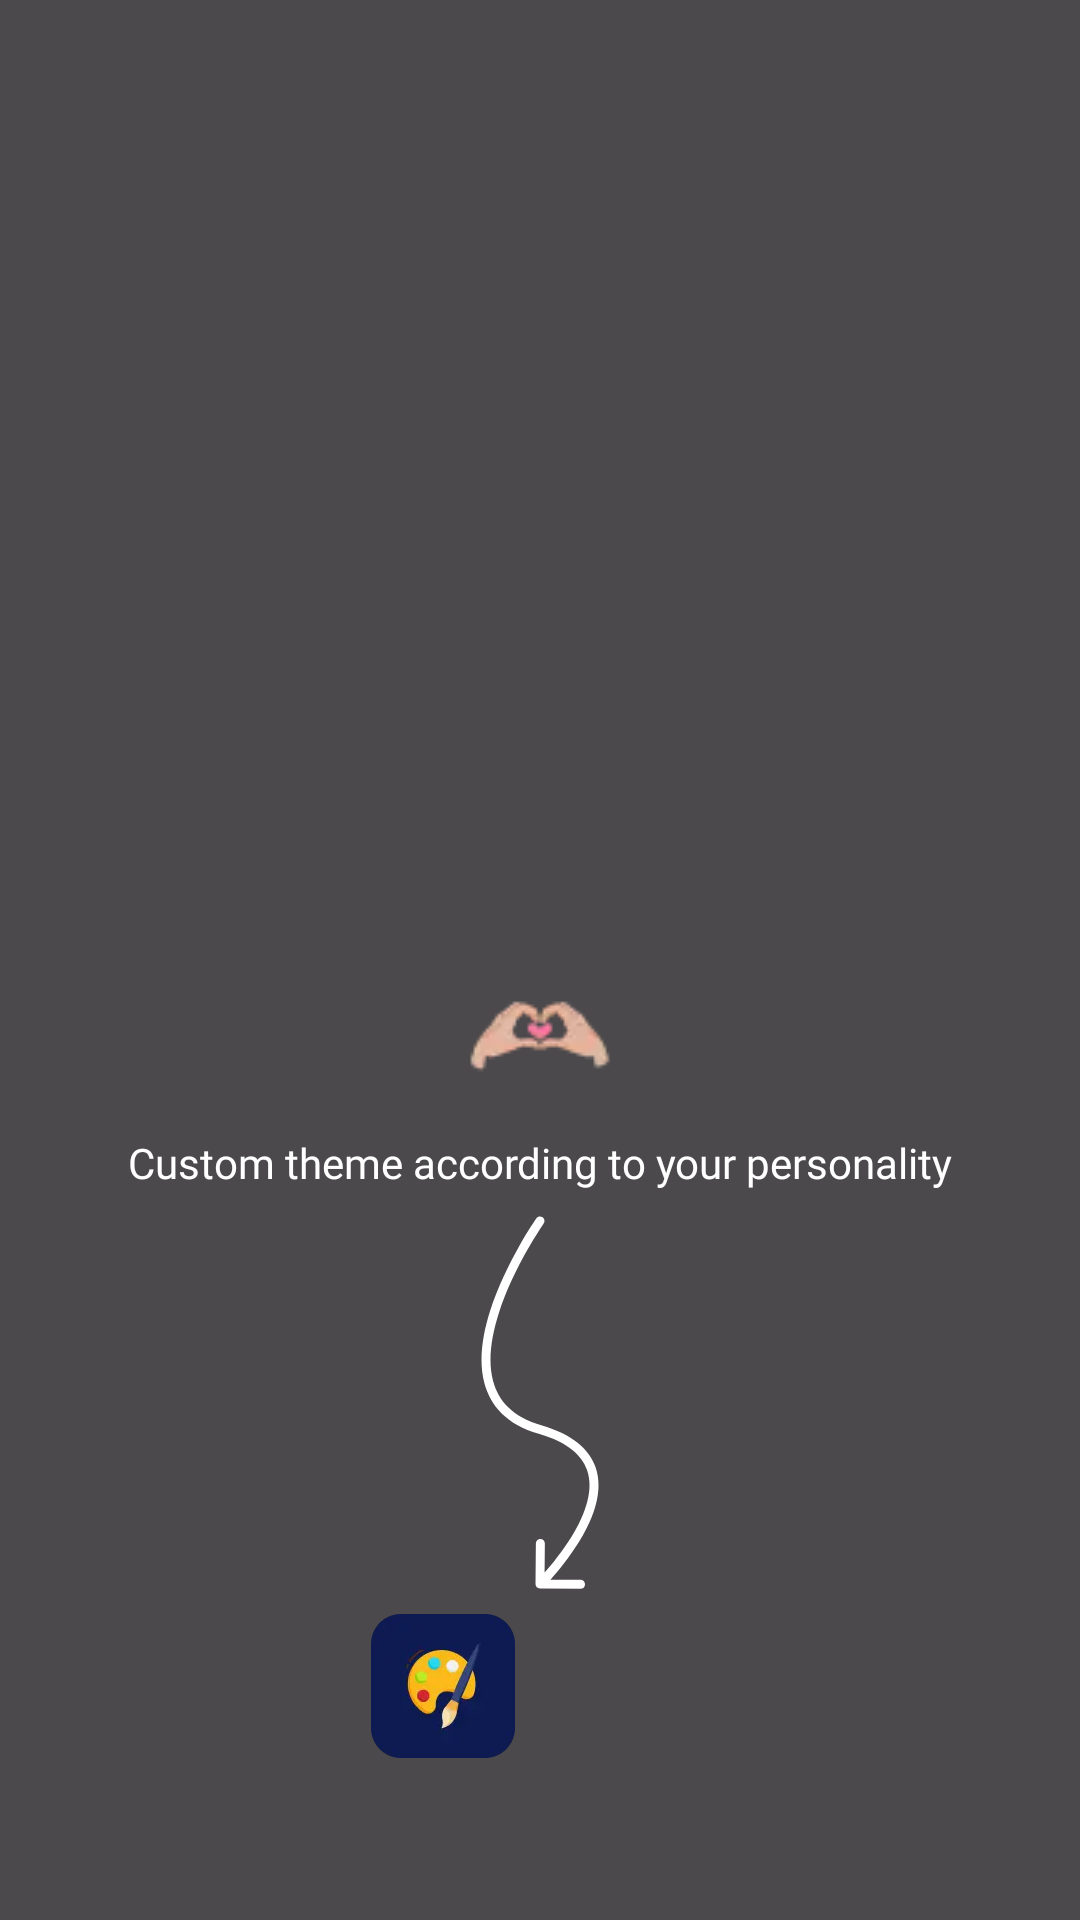

Point at icon controls on the screen. Image size 1080 × 1920, points as (x=x, y=y).
custom: (x=443, y=1686)
